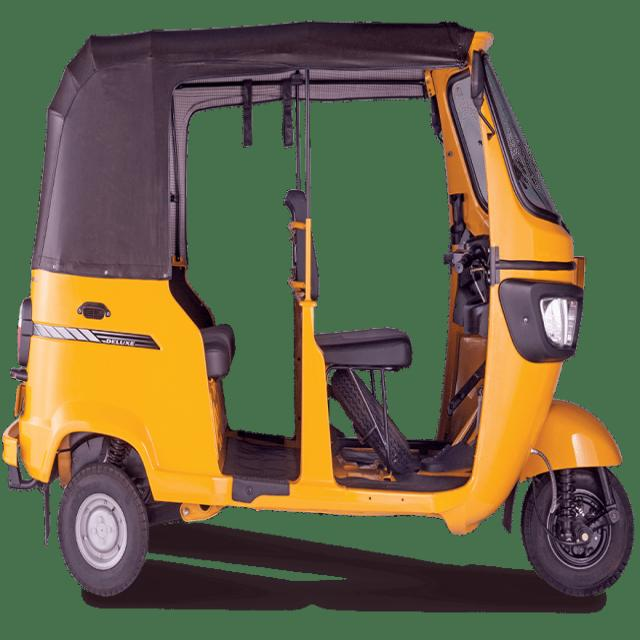autorickshaw: (2, 22, 634, 595)
